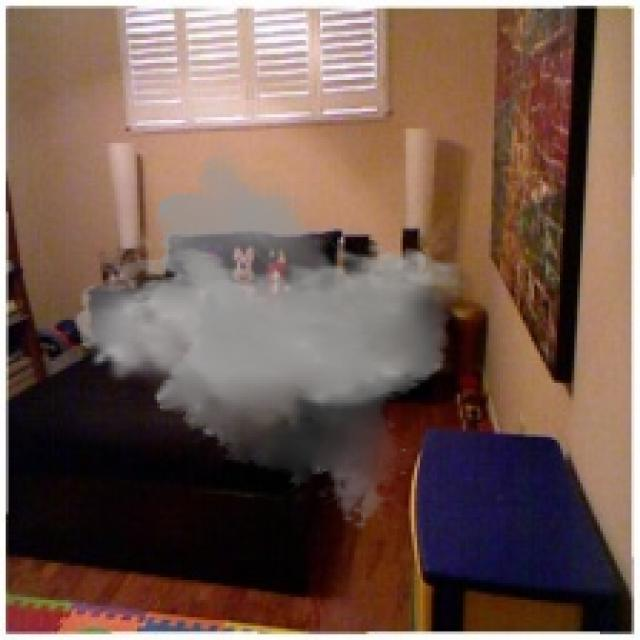smoke: (74, 143, 466, 531)
